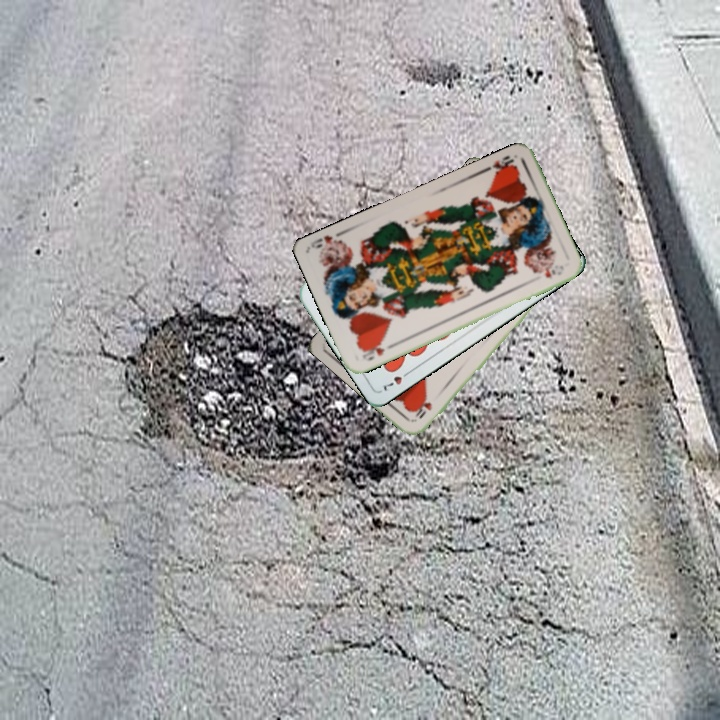H7: (377, 366, 414, 393)
HO: (480, 151, 519, 178), (358, 339, 396, 363), (410, 398, 435, 421)
